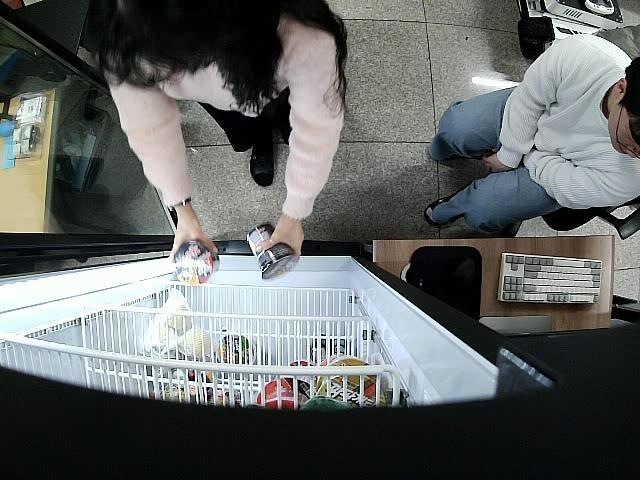08_buldak_S: (248, 222, 300, 282), (173, 240, 220, 283)
